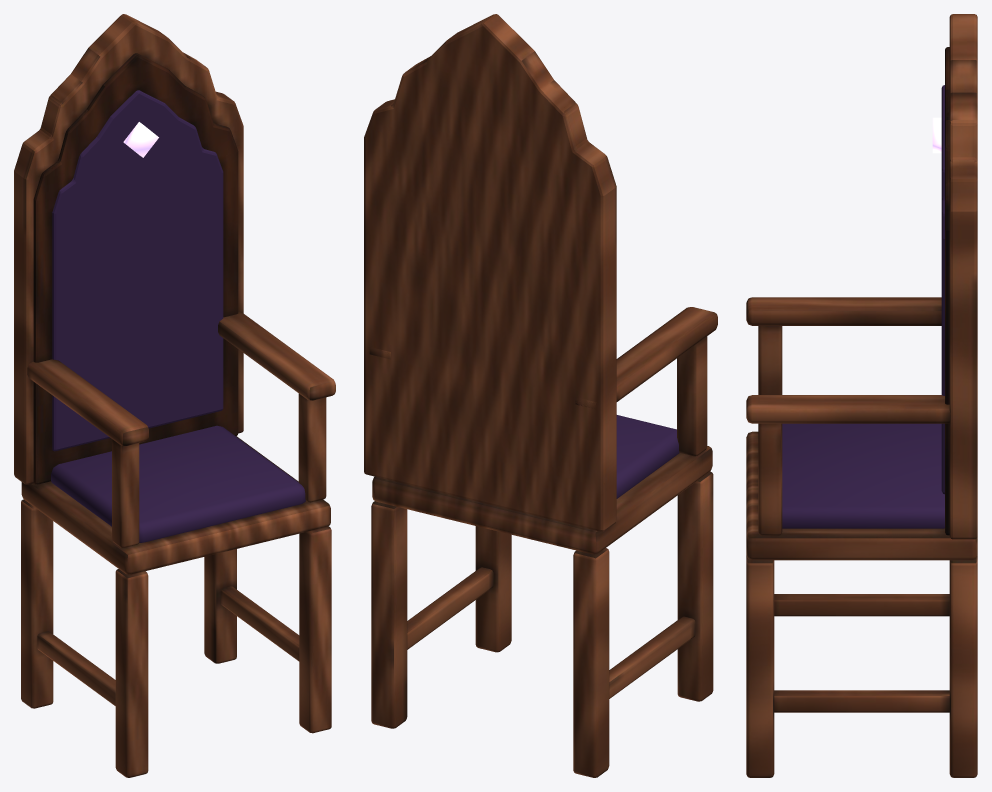
File: pod-crest.glb
3 views of the same model, side by side, from view 1: azimuth 30°, elevation 25°; view 2: azimuth 150°, elevation 25°; view 3: azimuth 270°, elevation 25° (orthographic). The views are drawn at different scales.
Visible parts, largest first — view 1: Crest_Wood, Leather, Gems; view 2: Crest_Wood, Leather; view 3: Crest_Wood, Leather.
Part boxes in pixels (box(x1,y1,x2,y2)): Crest_Wood: box(14, 14, 335, 777); Leather: box(51, 90, 305, 542); Gems: box(123, 122, 158, 157); Crest_Wood: box(364, 14, 717, 777); Leather: box(616, 415, 679, 498); Crest_Wood: box(746, 14, 977, 777); Leather: box(782, 85, 944, 528).
Size of the model in its own units: 0.68 by 1.97 by 0.58.
3 materials, 1 textured.
